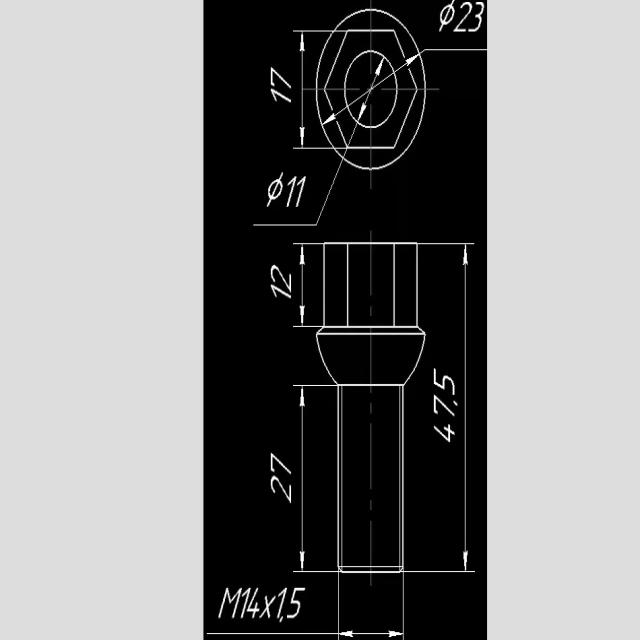marking_line: (427, 239, 475, 575), (405, 388, 476, 575), (292, 382, 337, 573), (419, 240, 476, 327), (336, 575, 406, 640), (292, 28, 315, 150), (292, 242, 321, 329), (358, 59, 384, 119)
numeric: (432, 365, 456, 394), (266, 66, 293, 91), (431, 393, 457, 418), (270, 265, 292, 292), (270, 477, 292, 504), (453, 1, 472, 31), (468, 1, 485, 34), (288, 587, 305, 620), (270, 452, 292, 476), (432, 420, 456, 442), (270, 88, 293, 107), (248, 588, 262, 619), (294, 175, 306, 211), (270, 284, 291, 304), (285, 175, 298, 206), (241, 586, 252, 621), (277, 584, 287, 620)
special_symbol: (266, 173, 285, 207), (438, 0, 455, 32), (258, 595, 278, 619), (453, 399, 459, 406), (279, 617, 284, 625)
